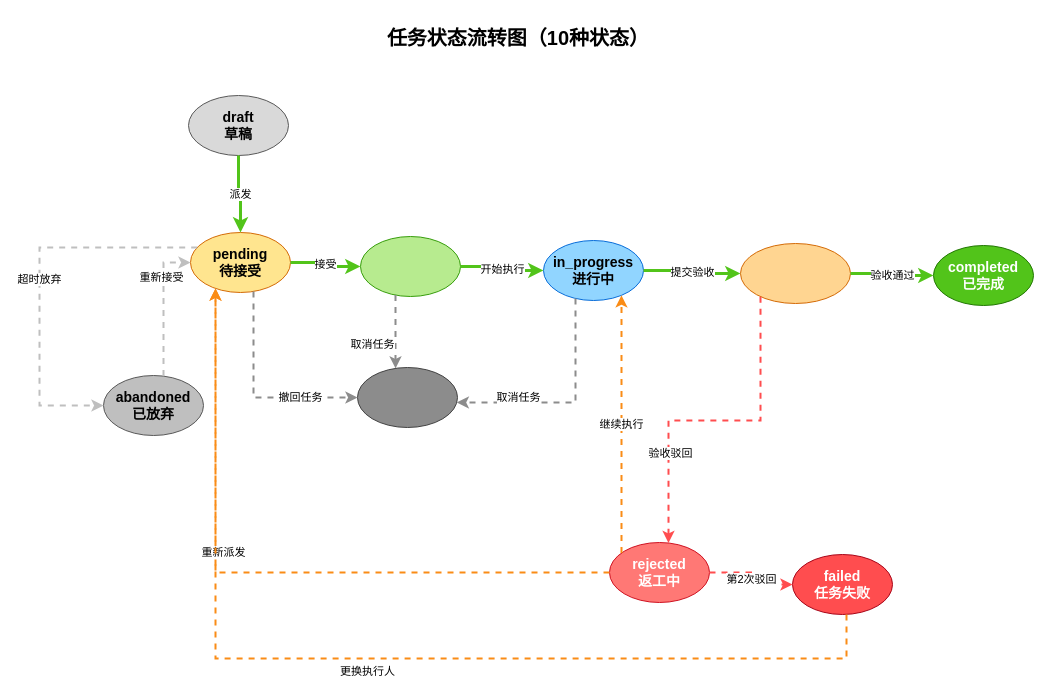
This 1051x695 diagram has some shape labels left out. Each missing label, with the box of its shape:
accepted 已接受: (360, 236, 460, 296)
cancelled 已取消: (356, 366, 458, 428)
waiting_acceptance 待验收: (740, 242, 850, 304)
